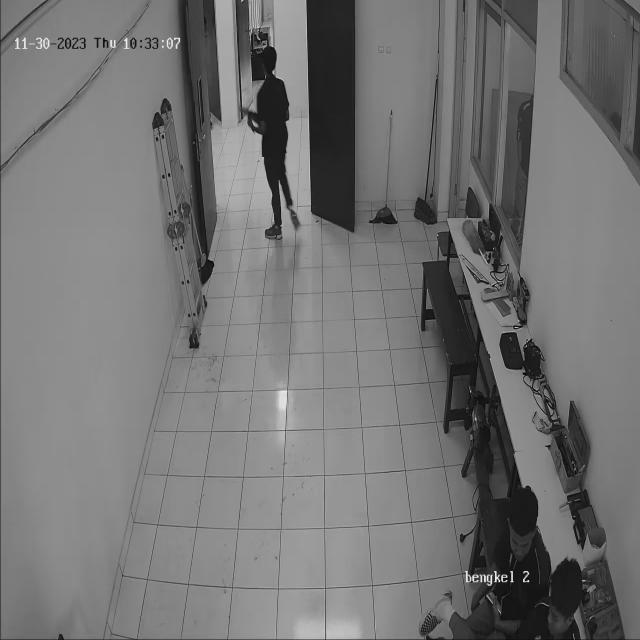person: (250, 46, 306, 252)
